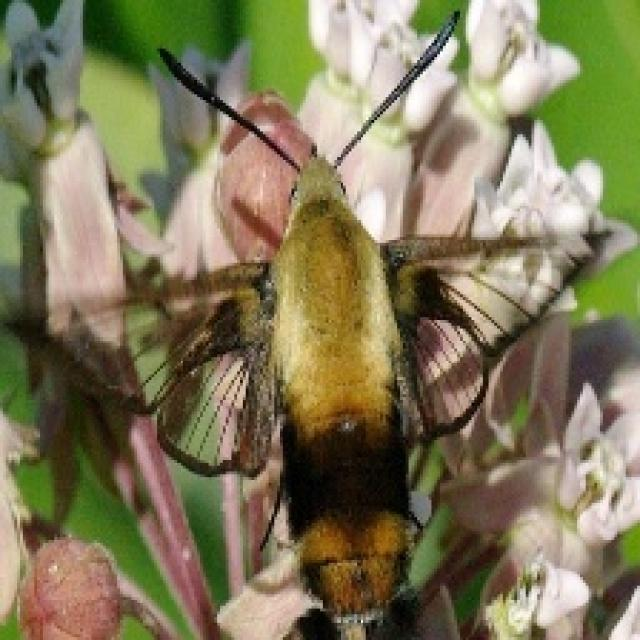butterfly: (117, 6, 614, 637)
